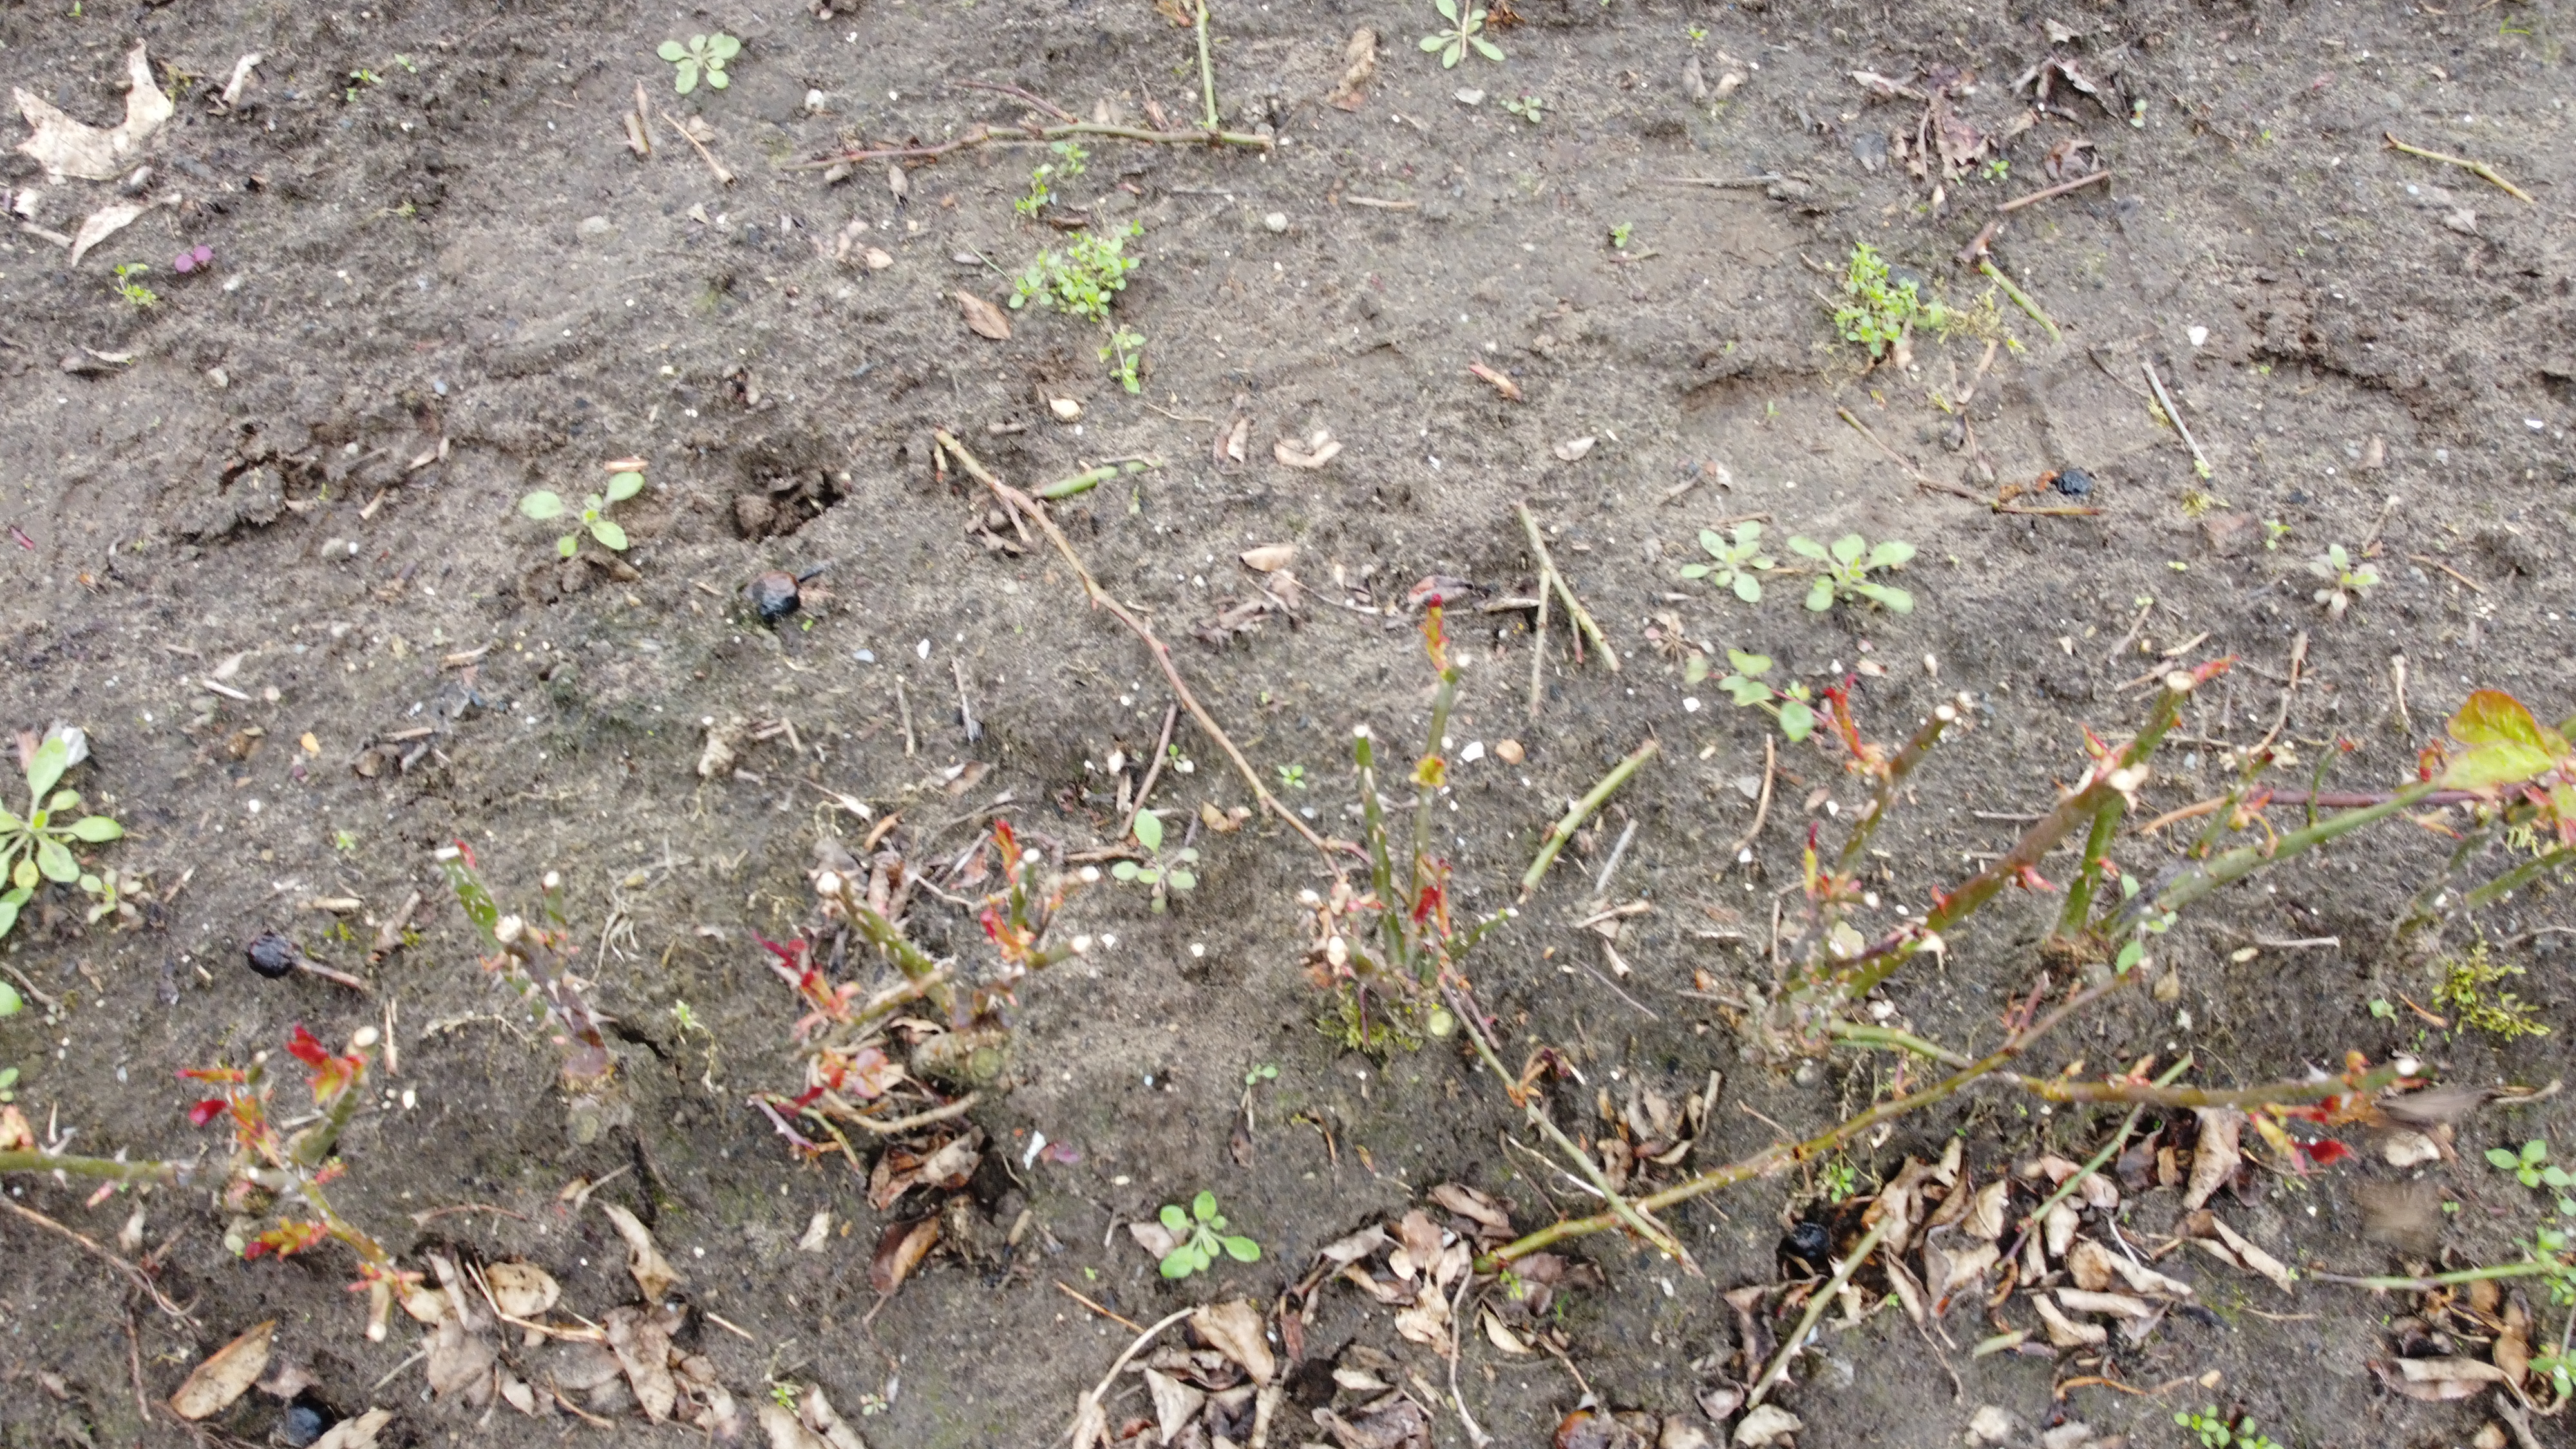Rose: (1714, 663, 2567, 1104), (757, 870, 1030, 1143), (0, 1062, 391, 1238), (1307, 681, 1483, 1051)
Weed: (1679, 502, 1937, 625), (0, 711, 122, 932), (1819, 226, 2015, 359), (993, 226, 1148, 311), (1136, 1187, 1265, 1279), (504, 476, 644, 550), (640, 14, 752, 99), (1109, 805, 1194, 908), (1415, 0, 1511, 71), (2304, 540, 2373, 616), (2477, 1136, 2565, 1192), (2167, 1403, 2275, 1449), (108, 258, 154, 303), (1813, 1161, 1852, 1203), (1504, 92, 1543, 124), (1612, 218, 1629, 251), (2128, 96, 2146, 129), (1983, 154, 2006, 179)
